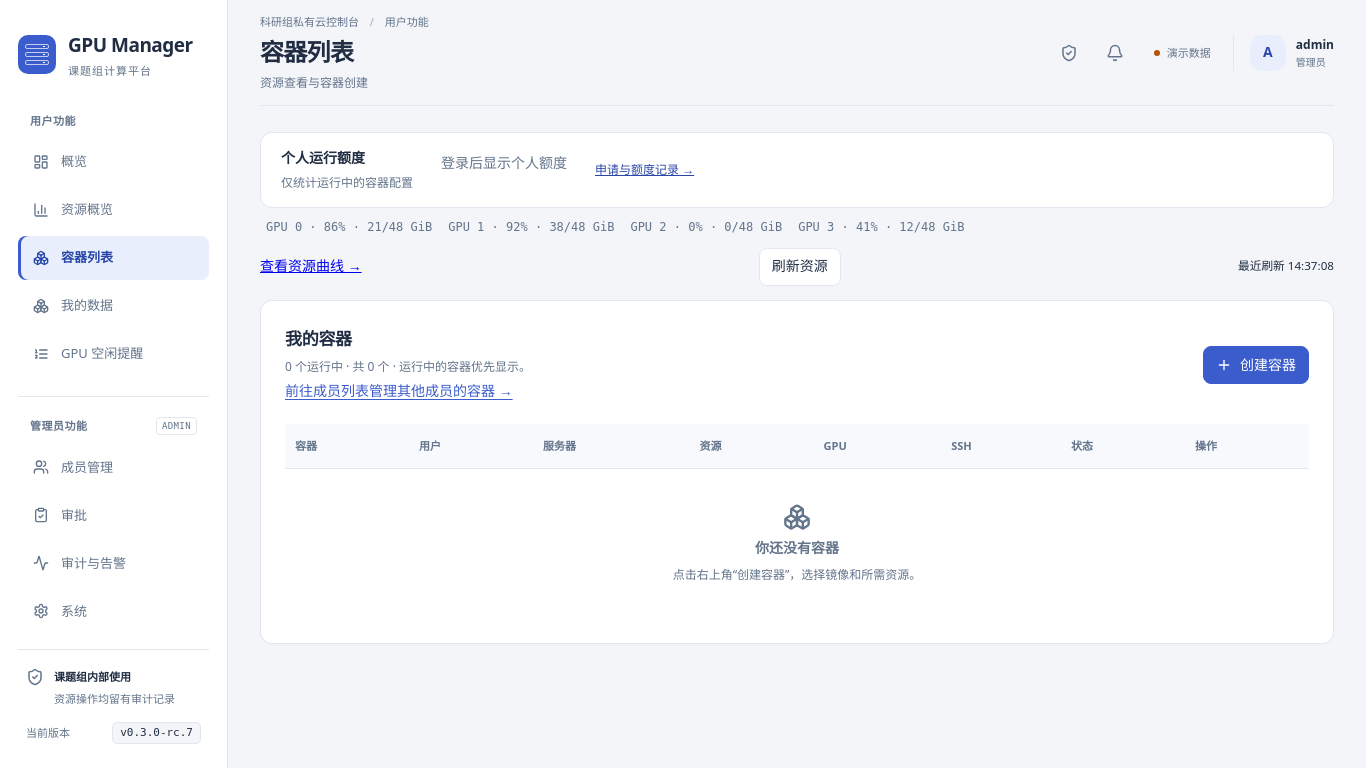
Test case: administrator with no containers sees a personal empty state and can go to member management
Expected: the text "你还没有容器" is shown, [755,537,839,559]
Expected: the text "0 个运行中 · 共 0 个 · 运行中的容器优先显示。" is shown, [285,357,531,376]
Click the button "前往成员列表管理其他成员的容器 →" at x=399, y=391, box [285,376,513,406]
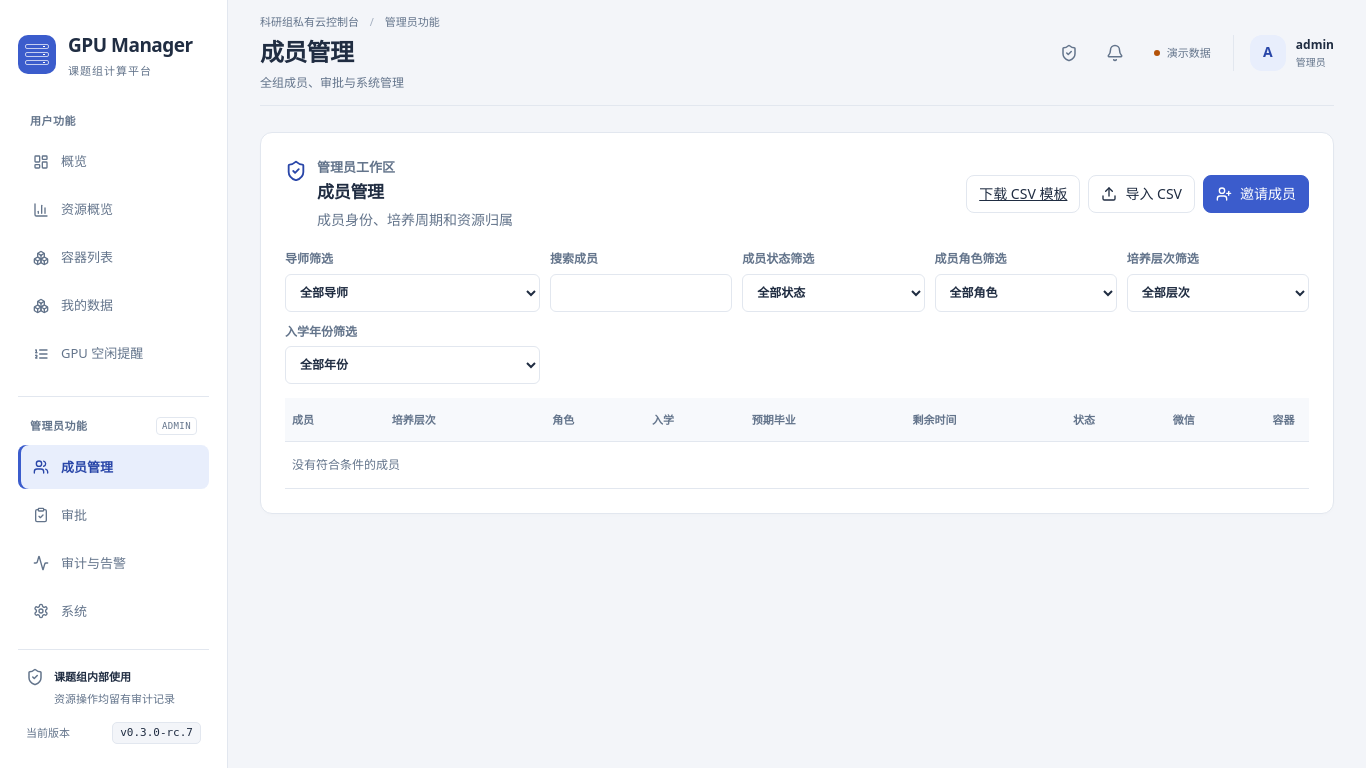
Result: the table named "课题组成员列表" is shown at [285,398,1309,488]
